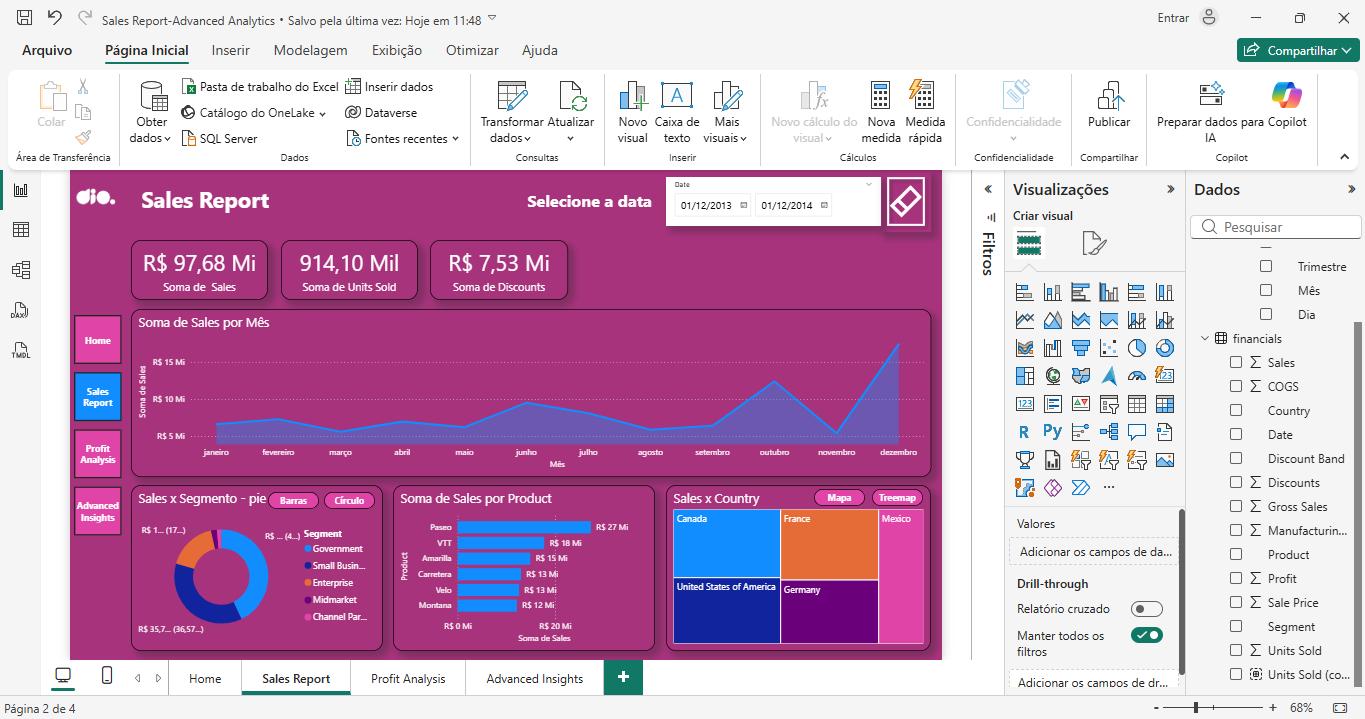

Layout of this report page (visuals, bound fields, positions):
{"tool":"powerbi","page":{"name":"Sales Report","canvas":[1280,720],"ordinal":1},"visuals":[{"type":"card","fields":{"Values":["Sum(financials. Sales)"]},"box":[89.6,102.9,201.3,88.2],"z":0},{"type":"card","fields":{"Values":["Sum(financials.Units Sold)"]},"box":[310,102.9,201.3,88.2],"z":1000},{"type":"card","fields":{"Values":["Sum(financials.Discounts)"]},"box":[529,102.9,202.8,88.2],"z":2000},{"type":"areaChart","fields":{"Category":["dCalendario.Date.Variation.Hierarquia de datas.Mês"],"Y":["Sum(financials. Sales)"]},"box":[89.6,204.2,1175.5,246.9],"z":3000},{"type":"clusteredBarChart","fields":{"Category":["financials.Product"],"Y":["Sum(financials. Sales)"]},"box":[474.6,462.9,385,243.9],"z":4000},{"type":"textbox","box":[667.1,23.5,196.9,45.6],"z":6000},{"type":"slicer","fields":{"Values":["dCalendario.Date"]},"box":[875.8,10.3,315.9,72],"z":7000},{"type":"actionButton","box":[1191.7,1.5,73.5,89.6],"z":8000},{"type":"image","box":[0,0,76.2,77.7],"z":9000},{"type":"barChart","title":"Sales x Segmento","fields":{"Category":["financials.Segment"],"Y":["Sum(financials. Sales)"]},"box":[89.6,462.9,370.3,243.9],"z":10000},{"type":"actionButton","box":[290.9,473.1,74.9,25],"z":12000},{"type":"actionButton","box":[373.2,473.1,74.9,25],"z":13000},{"type":"treemap","title":"Sales x Country","fields":{"Group":["financials.Country"],"Values":["Sum(financials. Sales)"]},"box":[875.8,462.9,389.4,243.9],"z":15000},{"type":"actionButton","box":[1093.2,468.7,74.9,25],"z":16000},{"type":"actionButton","box":[1178.4,468.7,74.9,25],"z":17000},{"type":"textbox","box":[99.9,16.2,213.1,61.7],"z":18000},{"type":"pageNavigator","box":[5.9,213.1,70.5,327.7],"z":19000}]}

Visuals, with their boxes on the page's 1280x720 design canvas (x1, y1, x2, y2). These are canvas units, not pixel positions in the 1365x719 screenshot, which may show the page scaled, cropped or inside an application window:
card - Sum(financials. Sales): <region>90, 103, 291, 191</region>
card - Sum(financials.Units Sold): <region>310, 103, 511, 191</region>
card - Sum(financials.Discounts): <region>529, 103, 732, 191</region>
areaChart - dCalendario.Date.Variation.Hierarquia de datas.Mês x Sum(financials. Sales): <region>90, 204, 1265, 451</region>
clusteredBarChart - financials.Product x Sum(financials. Sales): <region>475, 463, 860, 707</region>
textbox: <region>667, 24, 864, 69</region>
slicer - dCalendario.Date: <region>876, 10, 1192, 82</region>
actionButton: <region>1192, 2, 1265, 91</region>
image: <region>0, 0, 76, 78</region>
"Sales x Segmento" barChart: <region>90, 463, 460, 707</region>
actionButton: <region>291, 473, 366, 498</region>
actionButton: <region>373, 473, 448, 498</region>
"Sales x Country" treemap: <region>876, 463, 1265, 707</region>
actionButton: <region>1093, 469, 1168, 494</region>
actionButton: <region>1178, 469, 1253, 494</region>
textbox: <region>100, 16, 313, 78</region>
pageNavigator: <region>6, 213, 76, 541</region>
